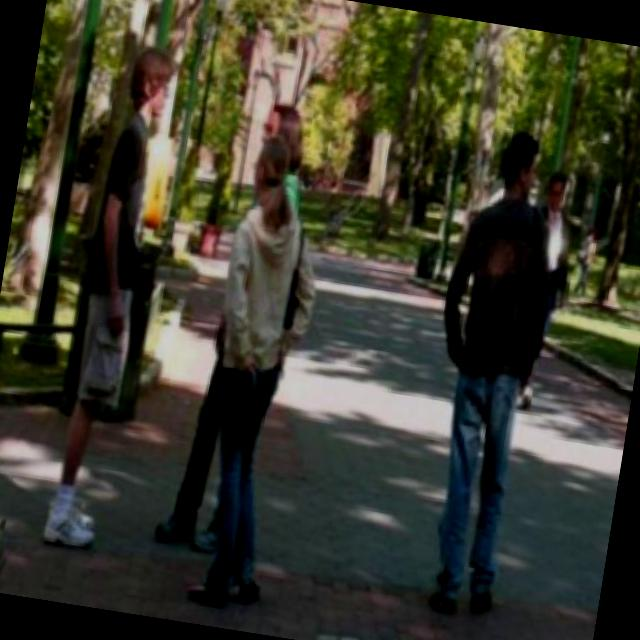Person: (394, 118, 572, 622), (174, 131, 344, 617), (33, 44, 178, 566), (512, 166, 588, 416)
